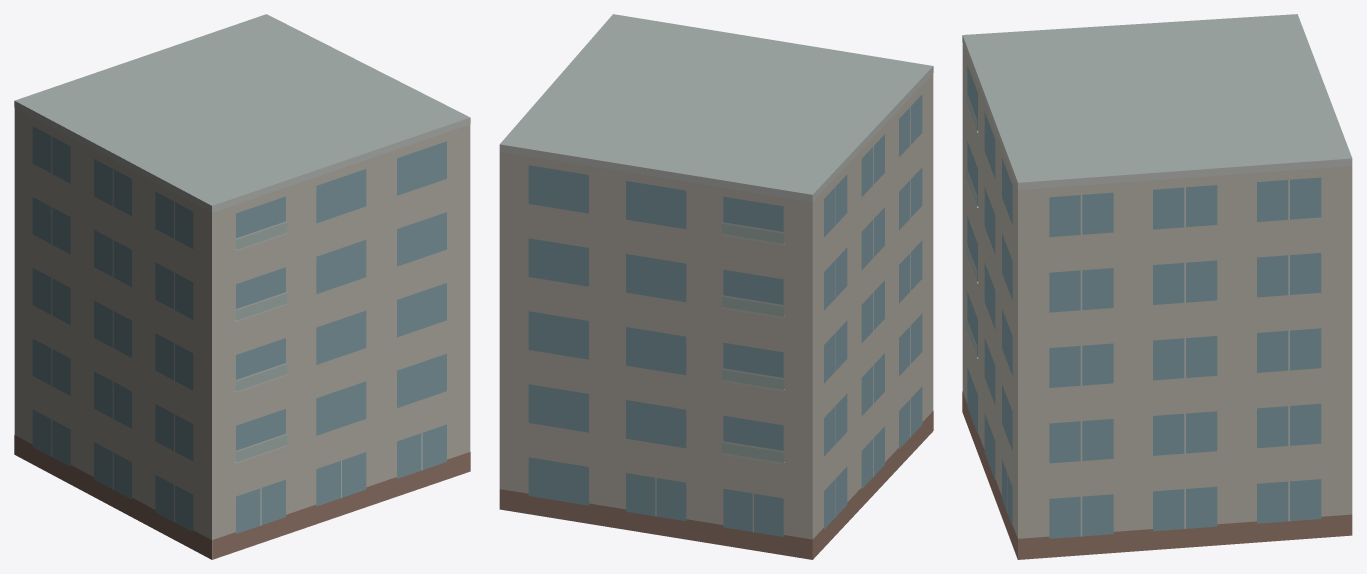
Rendered from survey-upis-32914986.glb.
The picture shows the model from 3 angles, left to right: view 1: azimuth 30°, elevation 25°; view 2: azimuth 150°, elevation 25°; view 3: azimuth 270°, elevation 25°; orthographic projection. The views are drawn at different scales.
Parts seen in each view (by area): view 1: survey-upis-32914986.tmp; view 2: survey-upis-32914986.tmp; view 3: survey-upis-32914986.tmp.
Part boxes in pixels (x1=…): survey-upis-32914986.tmp: x1=14, y1=14, x2=470, y2=559; survey-upis-32914986.tmp: x1=499, y1=14, x2=933, y2=559; survey-upis-32914986.tmp: x1=962, y1=14, x2=1352, y2=559.
Bounding box in the file's own units: 12.01 × 12.5 × 11.73.
